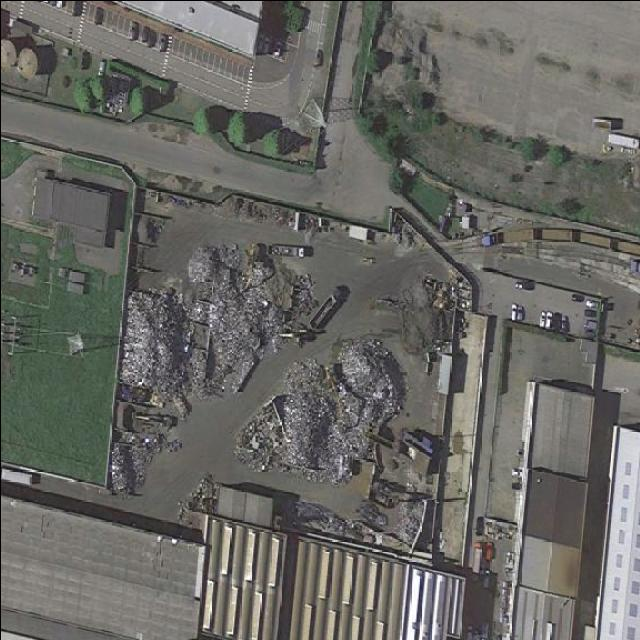dump_site: (225, 297, 418, 536), (186, 245, 317, 401), (115, 289, 192, 399), (105, 441, 155, 501)
